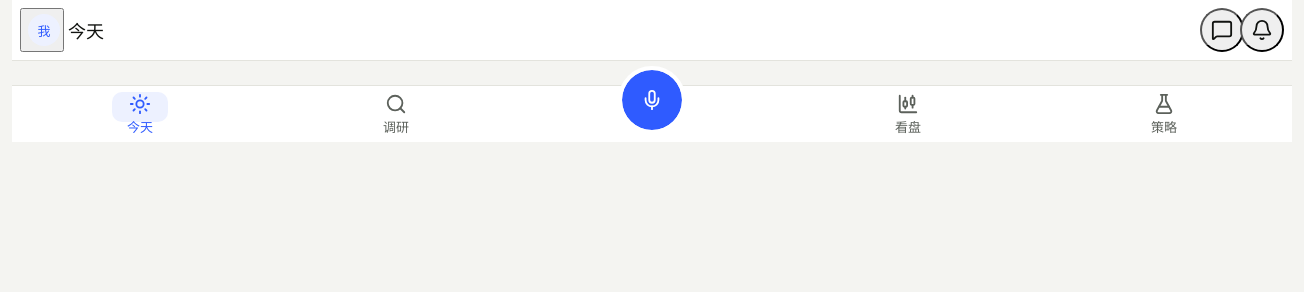
Test case: 点一下说话键：弹出打字框（写着按哪一页理解）且输入框获得焦点，发送后收起、不跳页
Press the mouse on the button named "按住说话，点一下打字" at (652, 100), box [622,70,682,130]
Wait 120 ms
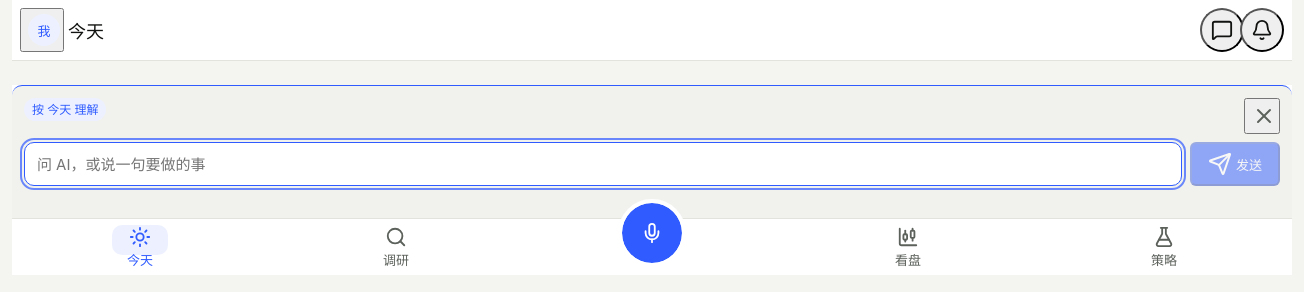
Type "螺纹今天怎么看" into the field labelled "按 今天 理解" at (603, 164), box [24,142,1182,186]
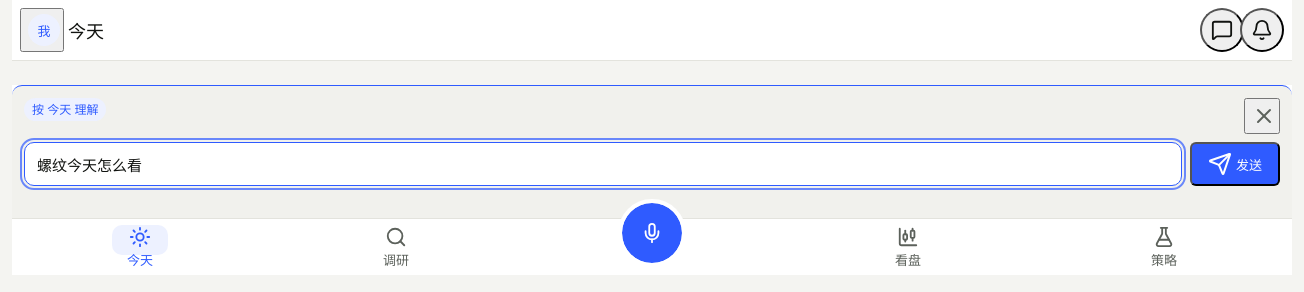
Click the button "发送" at (1235, 164), box [1190,142,1280,186]
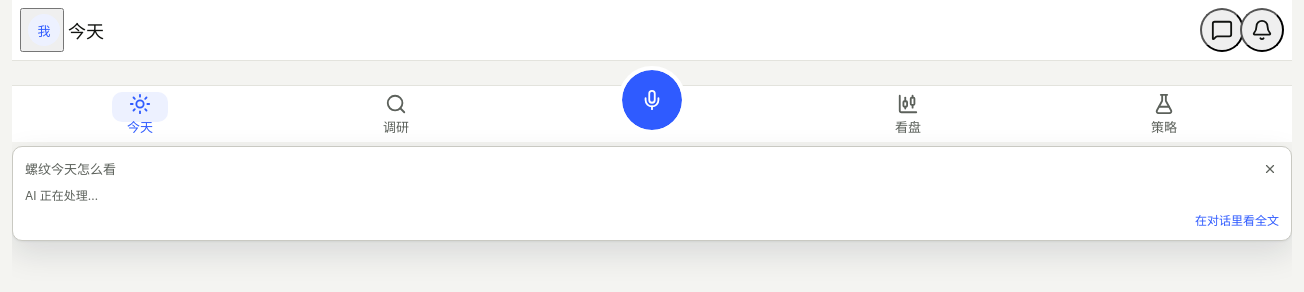
Result: the label "按 今天 理解" is gone
Click the button named "收起 AI 指令结果" at (1270, 168), box [1261,160,1279,178]
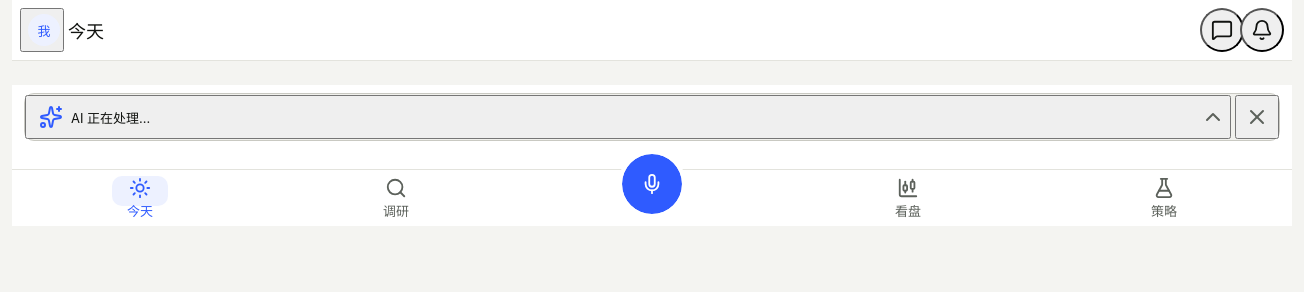
Click the button with aria-label "AI 指令结果：" at (111, 118), box [25,95,1231,139]
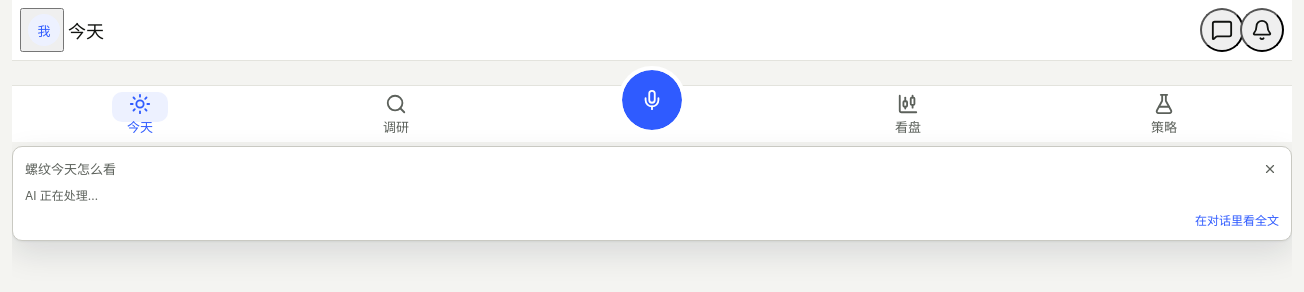
Result: the element named "AI 指令结果" is shown at [12,146,1292,241]
